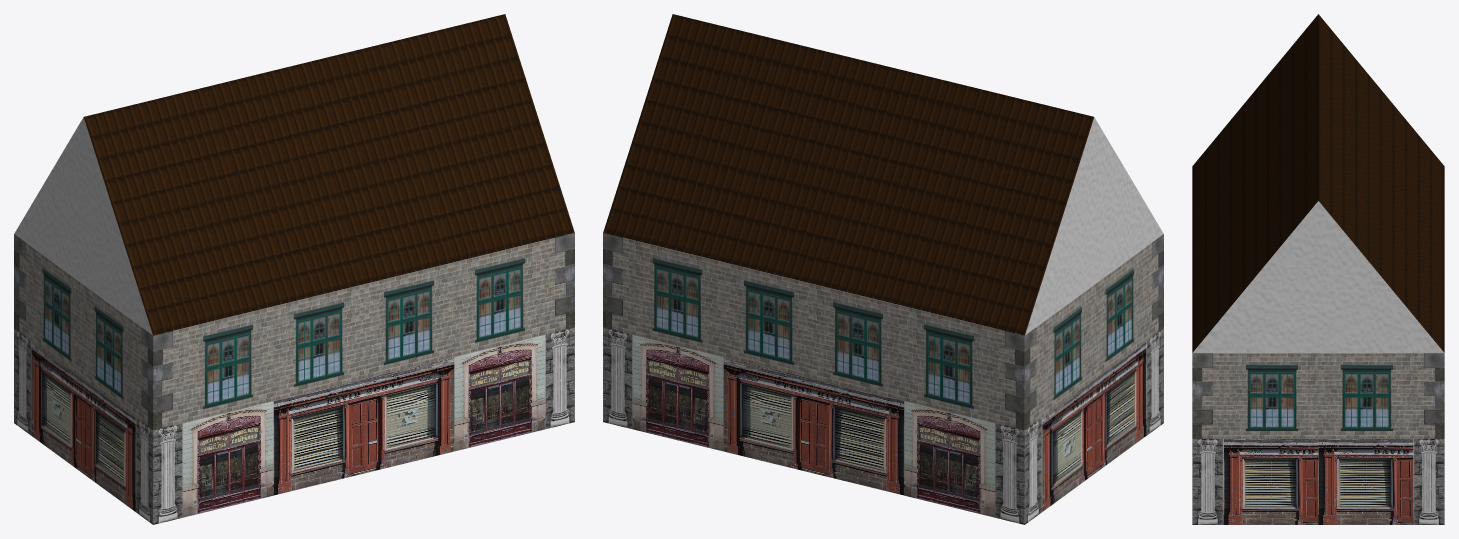
The model's file is House_013.dae.
3 renders of one model, left to right at view 1: azimuth 30°, elevation 25°; view 2: azimuth 150°, elevation 25°; view 3: azimuth 270°, elevation 25°, orthographic. The views are drawn at different scales.
Parts seen in each view (by area): view 1: House_013; view 2: House_013; view 3: House_013.
Boxes of the visible parts, x1,y1,x2,y2 form: House_013: (14, 14, 574, 524); House_013: (603, 14, 1163, 524); House_013: (1192, 14, 1444, 524).
Bounding box in the file's own units: 112 × 64 × 90.65.
